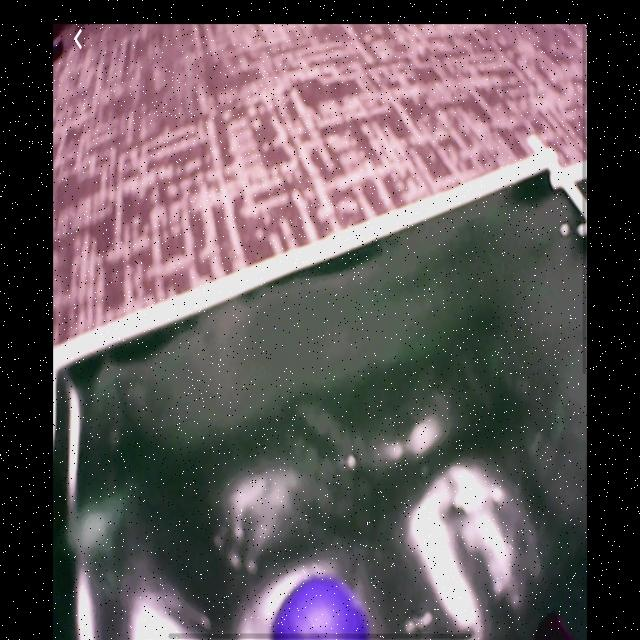ball: (274, 578, 370, 640)
